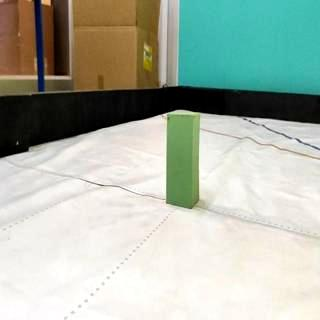greenbox: (164, 108, 201, 210)
